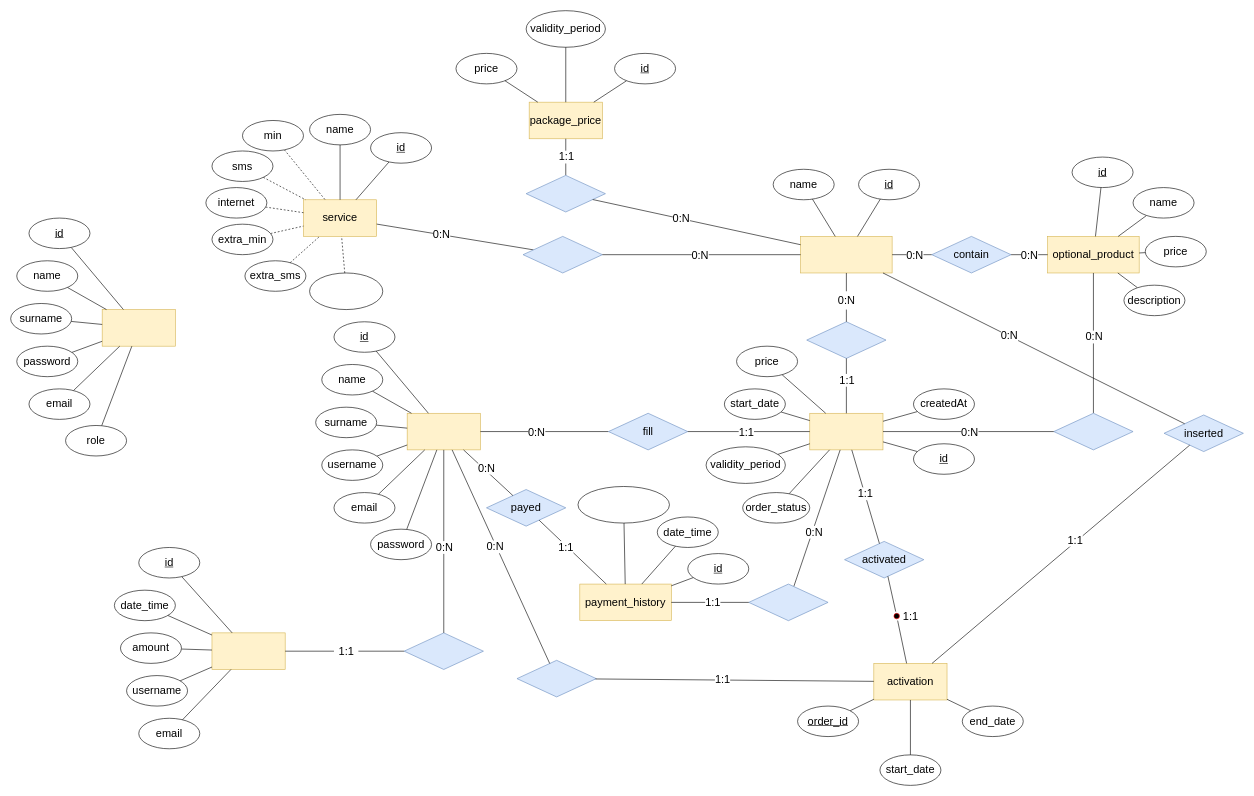
Image size: 1254x796. Some labels were removed from this diagram. The centre of each missing label's shape, as x and y in pixels:
"administrator" goes at point (138, 327).
"alerts" goes at point (248, 650).
"assigned" goes at point (565, 193).
"choose" goes at point (1093, 431).
"done" goes at point (788, 602).
"extra_internet" goes at point (346, 291).
"orders" goes at point (846, 431).
"payment_status" goes at point (623, 504).
"provide" goes at point (562, 254).
"raise" goes at point (443, 650).
"request" goes at point (556, 678).
"service_package" goes at point (846, 254).
"used" goes at point (846, 339).
"user" goes at point (443, 431).
